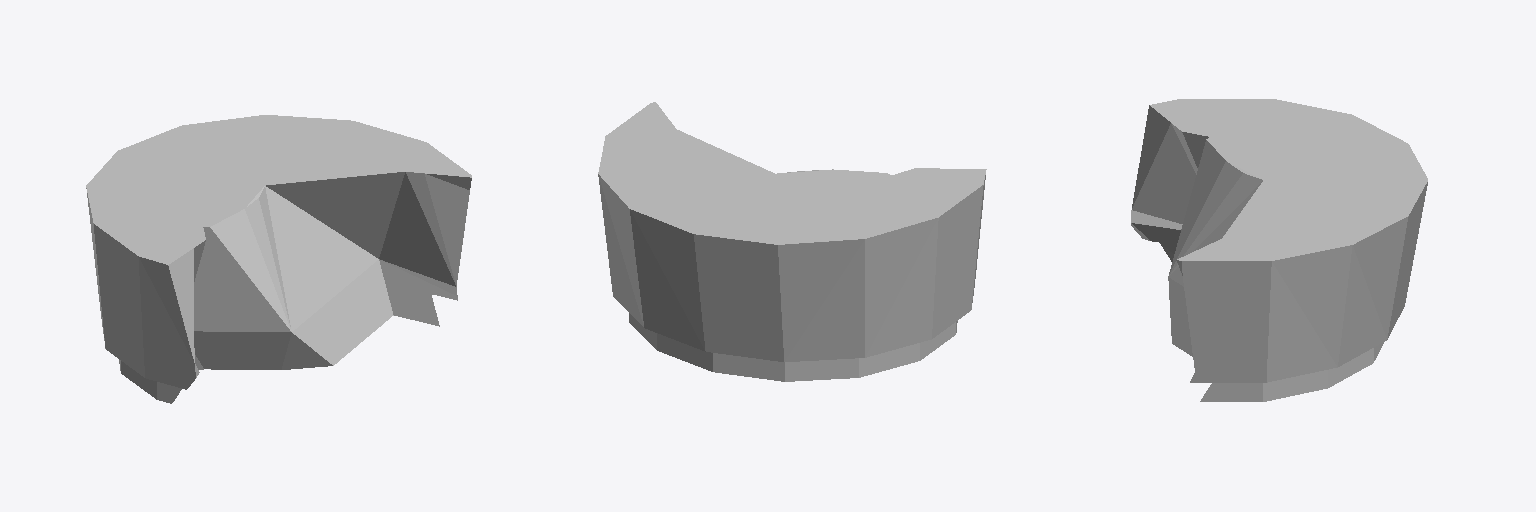
File: kolumna_z_top.obj
The picture shows the model from 3 angles: view 1: azimuth 30°, elevation 25°; view 2: azimuth 150°, elevation 25°; view 3: azimuth 270°, elevation 25°; orthographic projection.
Parts seen in each view (by area): view 1: Cylinder.019; view 2: Cylinder.019; view 3: Cylinder.019.
Part boxes in pixels (x1,y1,x2,y2): Cylinder.019: (86,115,471,403); Cylinder.019: (598,102,986,381); Cylinder.019: (1131,99,1427,401).
Size of the model in its own units: 5.62 by 2.46 by 4.34.